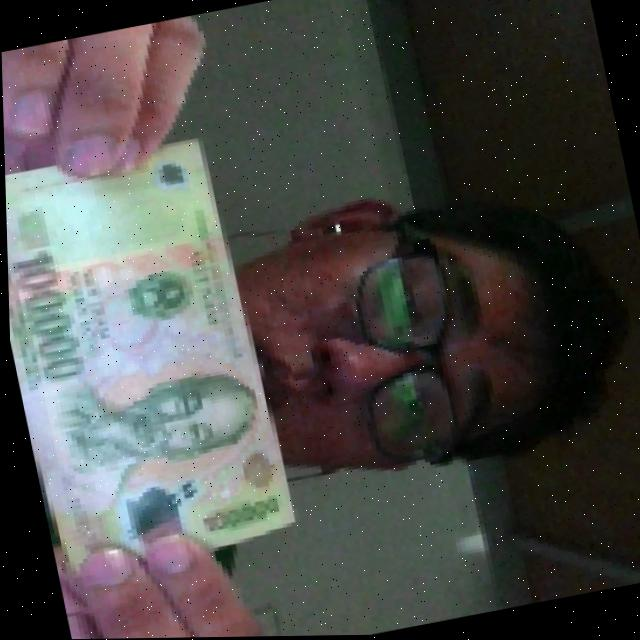100 000 VND: (3, 126, 305, 588)
